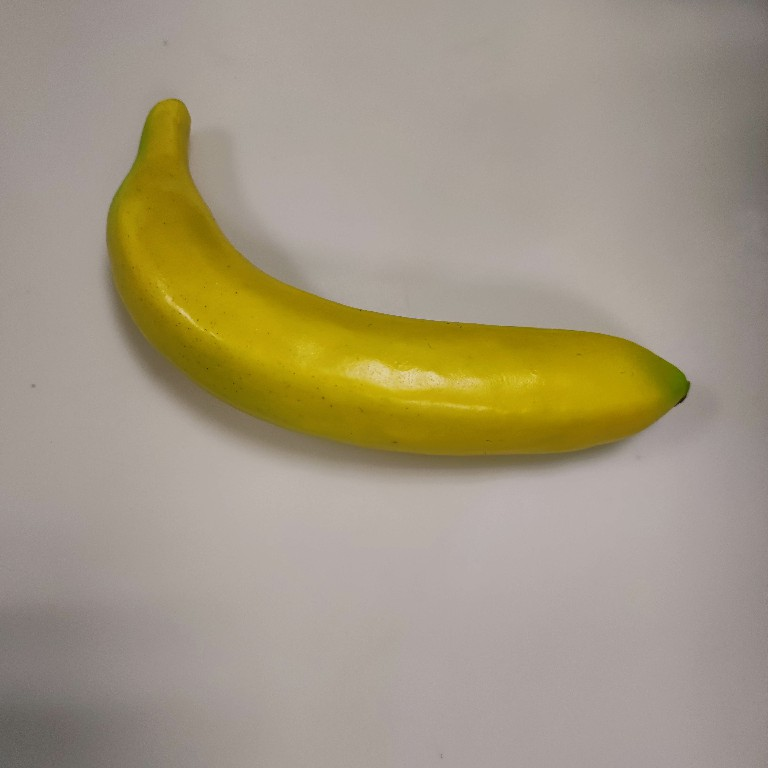fruit_banana: (103, 95, 694, 465)
